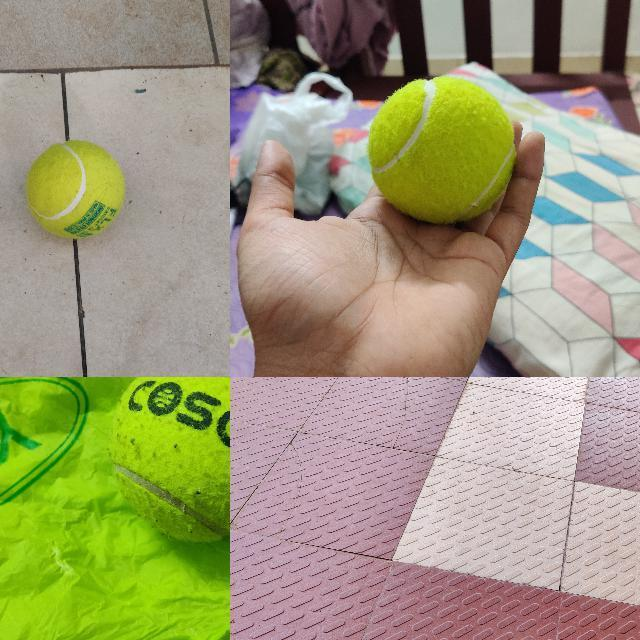tennis-ball: (366, 77, 517, 226), (106, 377, 229, 544), (25, 139, 125, 237)
